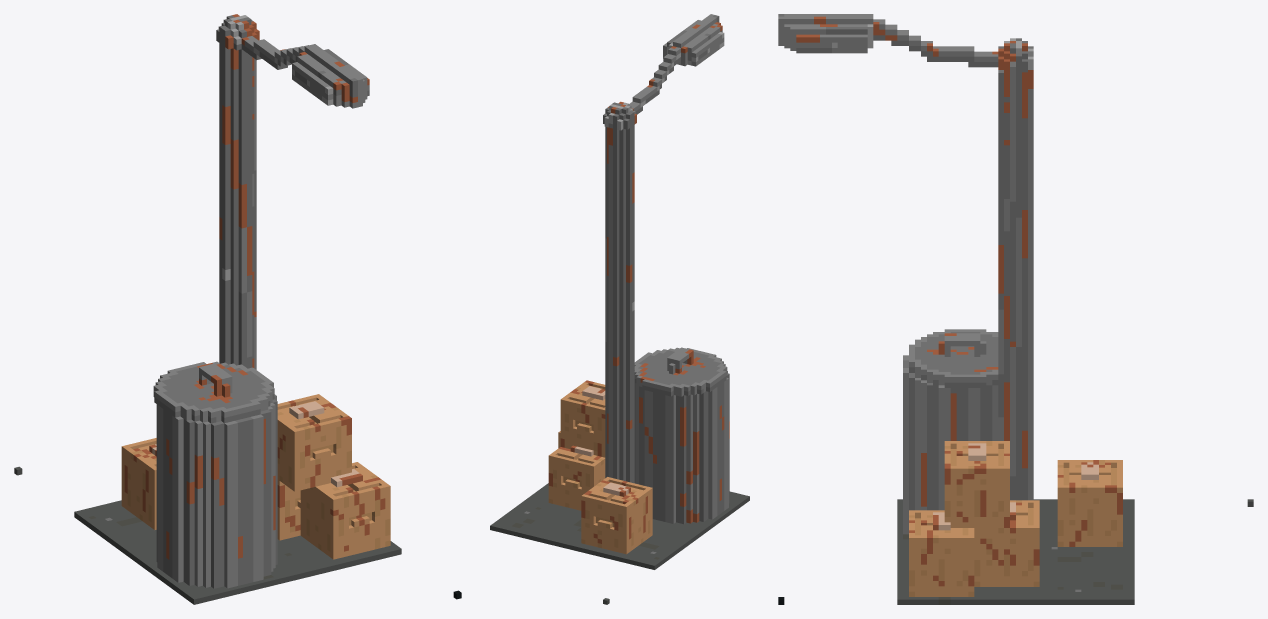
Rendered from Poste_02.obj.
3 renders of one model, left to right at view 1: azimuth 30°, elevation 25°; view 2: azimuth 150°, elevation 25°; view 3: azimuth 270°, elevation 25°, orthographic. The views are drawn at different scales.
Bounding box in the file's own units: 40 × 100 × 80.
1 material, 1 textured.
